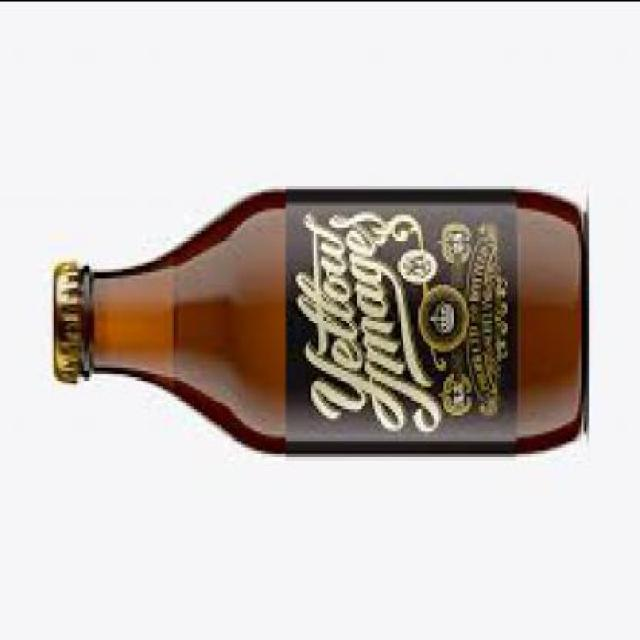GLASS: (76, 191, 584, 455)
METAL: (49, 268, 74, 384)
